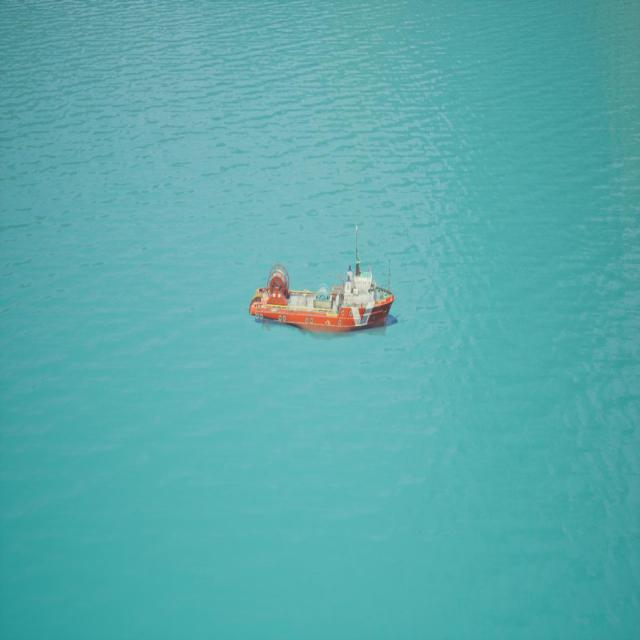tug boat: (249, 259, 397, 337)
